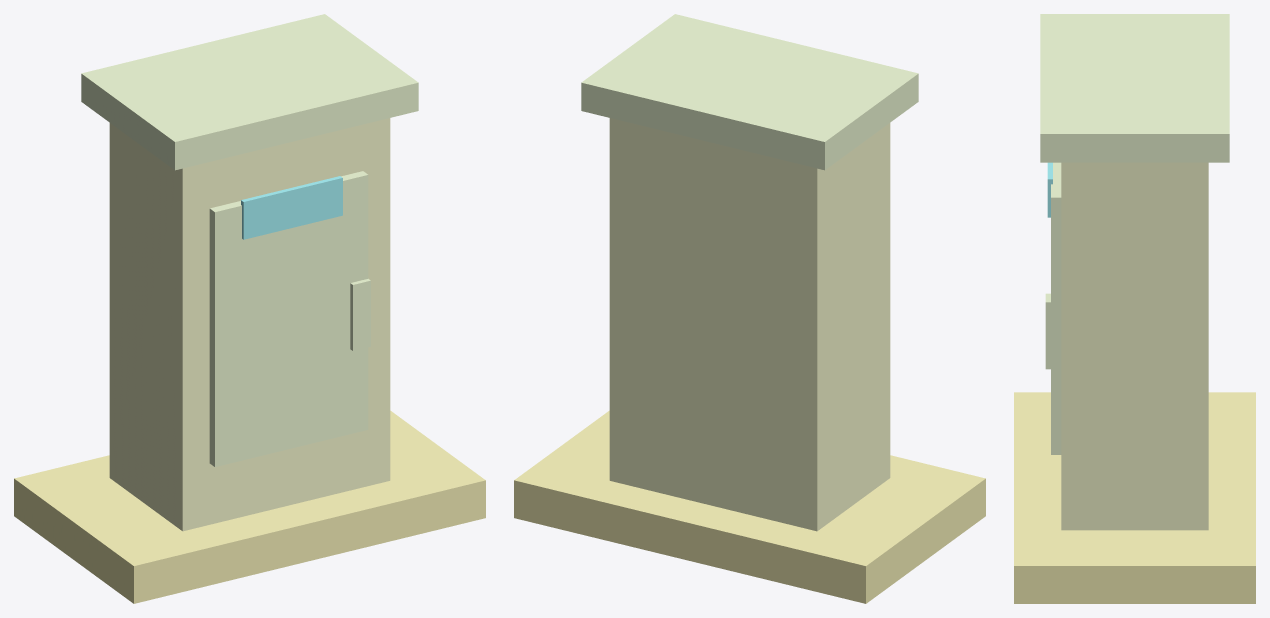
File: furniture_rail_crossing_predictor_case.glb
3 renders of one model, left to right at view 1: azimuth 30°, elevation 25°; view 2: azimuth 150°, elevation 25°; view 3: azimuth 270°, elevation 25°, orthographic.
Visible parts, largest first — view 1: body, door, pad, hood, status_strip, latch; view 2: body, pad, hood; view 3: body, pad, hood, door, latch.
Part boxes in pixels (x1,y1,x2,y2): body: [109, 118, 390, 531]; door: [209, 171, 368, 466]; pad: [14, 410, 485, 603]; hood: [81, 14, 418, 170]; status_strip: [241, 176, 342, 239]; latch: [350, 278, 370, 350]; body: [609, 118, 890, 531]; pad: [514, 410, 985, 603]; hood: [581, 14, 918, 170]; body: [1061, 162, 1208, 530]; pad: [1014, 392, 1255, 603]; hood: [1040, 14, 1229, 162]; door: [1051, 162, 1061, 454]; latch: [1045, 293, 1055, 369].
Size of the model in its own units: 0.78 by 0.93 by 0.46.
